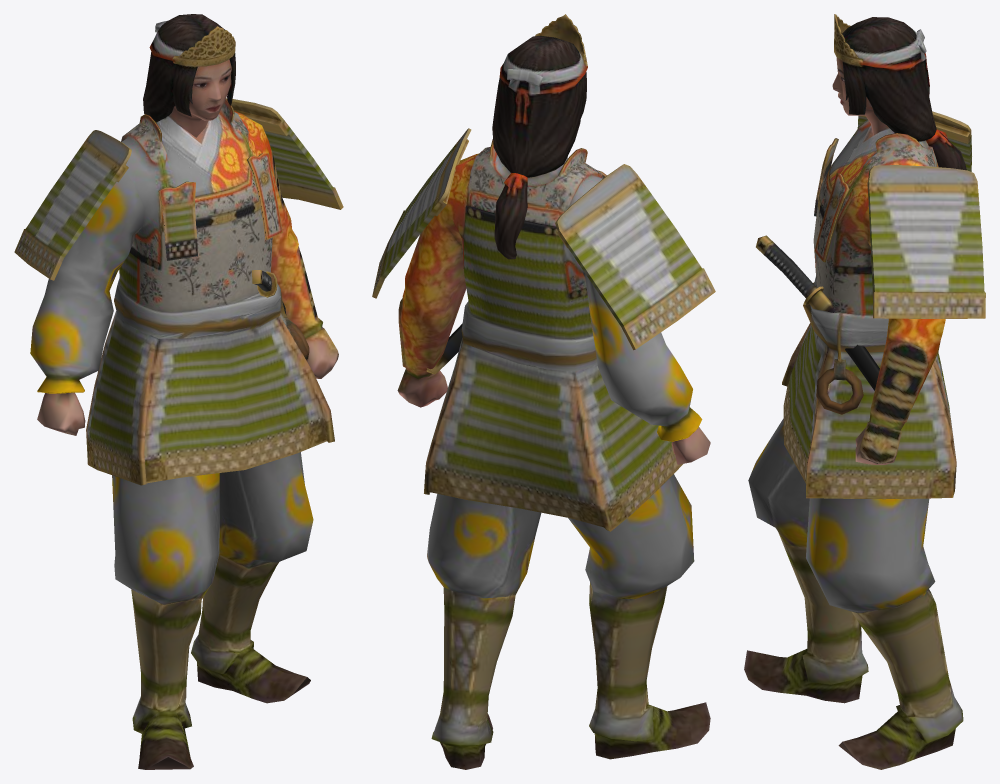
The model's file is body-base.glb.
3 renders of one model, left to right at view 1: azimuth 30°, elevation 25°; view 2: azimuth 150°, elevation 25°; view 3: azimuth 270°, elevation 25°, orthographic. The views are drawn at different scales.
Bounding box in the file's own units: 0.9207 × 2.04 × 0.6329.
1 material, 1 textured.
